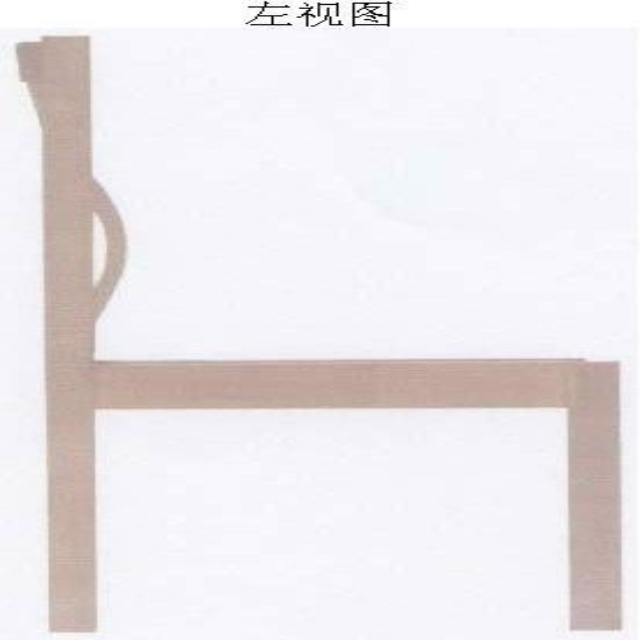obstacle: (16, 35, 619, 631)
